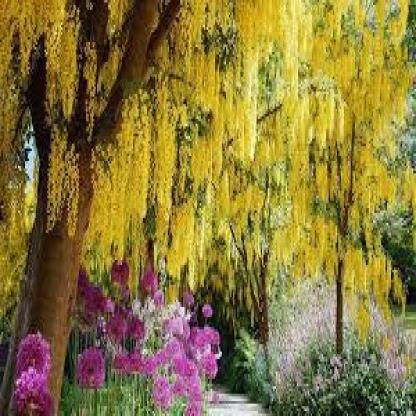other: (2, 3, 410, 312)
